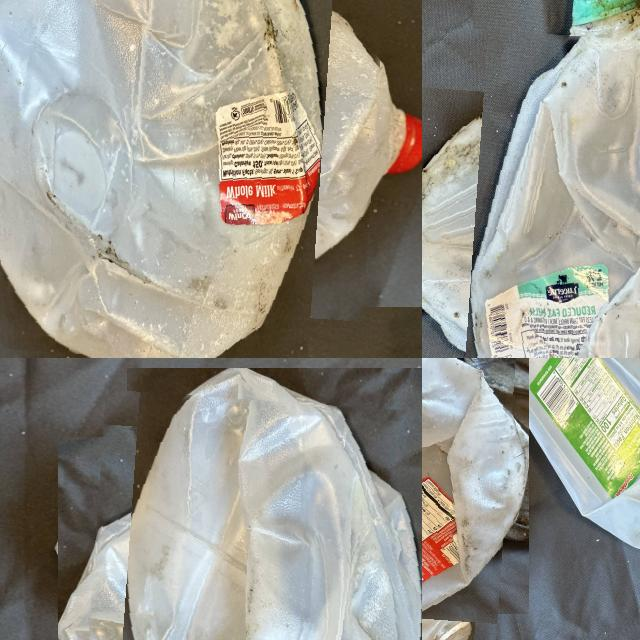milk-jug: (0, 0, 382, 358), (86, 395, 422, 640), (422, 32, 640, 358), (506, 358, 640, 558), (422, 358, 511, 640)
